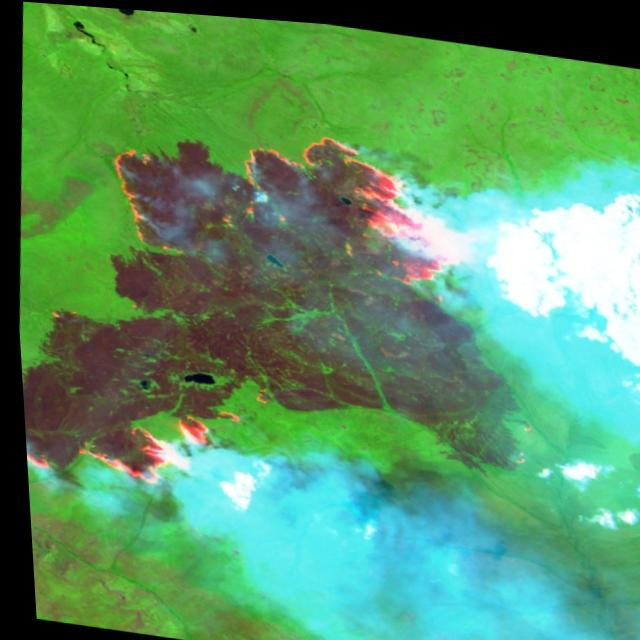fire: (97, 102, 470, 289), (18, 377, 245, 499), (244, 380, 274, 403)
